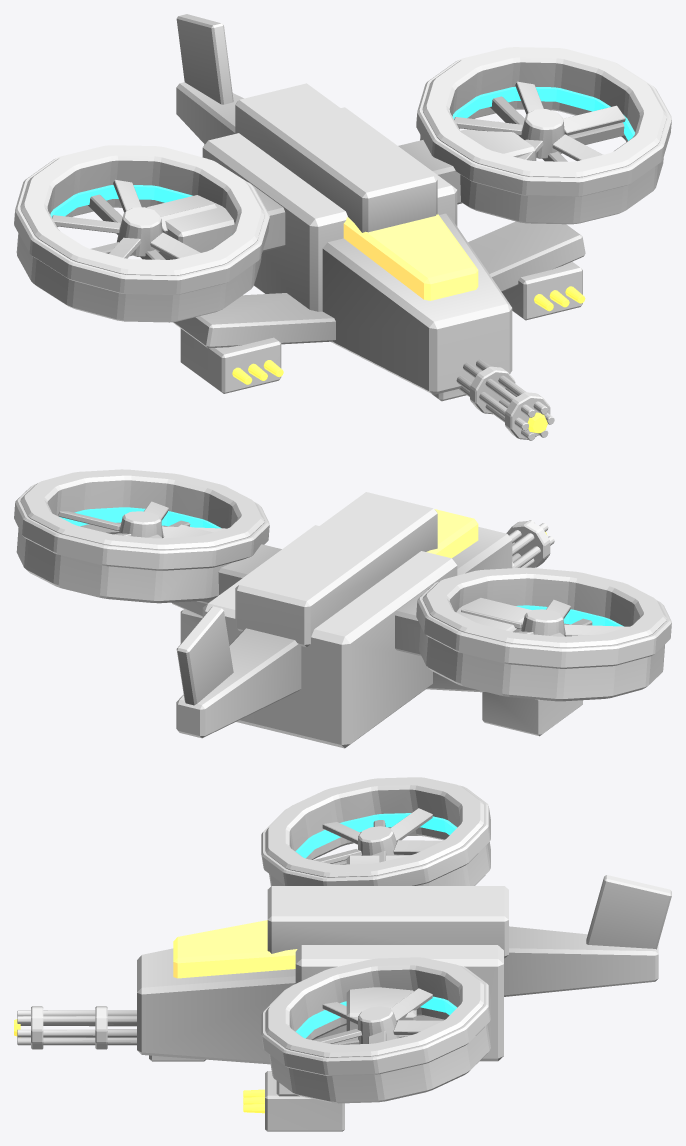
File: e1_gyro_rotor.glb
The picture shows the model from 3 angles, top to bottom: view 1: azimuth 30°, elevation 25°; view 2: azimuth 150°, elevation 25°; view 3: azimuth 270°, elevation 25°; orthographic projection. The views are drawn at different scales.
Visible parts, largest first — view 1: Fan_L_Shroud, Fan_R_Shroud, HullFront, HullSpine, HullCore, Cockpit, StubWing_L, Fan_L_TrimRim, Fan_R_TrimRim, StubWing_R, RotorArm_L, TailVFin (+16 smaller); view 2: Fan_L_Shroud, HullCore, Fan_R_Shroud, HullSpine, TailBoom, Fan_L_TrimRim, Fan_R_TrimRim, TailVFin, MissileRack_L, RotorArm_L, HullFront, Cockpit (+10 smaller); view 3: Fan_R_Shroud, HullSpine, Fan_L_Shroud, HullFront, TailBoom, HullCore, Cockpit, Fan_R_TrimRim, TailVFin, Fan_L_TrimRim, MissileRack_R, Fan_L_InnerGlow (+13 smaller).
Part boxes in pixels (x1,y1,x2,y2): Fan_L_Shroud: (16, 145, 264, 322); Fan_R_Shroud: (420, 47, 666, 224); HullFront: (322, 213, 512, 394); HullSpine: (235, 83, 437, 232); HullCore: (202, 107, 457, 311); Cockpit: (343, 214, 478, 300); StubWing_L: (173, 293, 335, 348); Fan_L_TrimRim: (14, 145, 269, 294); Fan_R_TrimRim: (416, 47, 671, 196); StubWing_R: (468, 221, 585, 291); RotorArm_L: (146, 182, 285, 259); TailVFin: (176, 14, 233, 104); Fan_L_Shroud: (419, 567, 666, 701); HullCore: (202, 525, 457, 748); Fan_R_Shroud: (16, 469, 264, 603); HullSpine: (235, 492, 437, 647); TailBoom: (176, 628, 301, 738); Fan_L_TrimRim: (416, 582, 671, 668); Fan_R_TrimRim: (14, 483, 269, 570); TailVFin: (176, 606, 233, 705); MissileRack_L: (482, 692, 582, 736); RotorArm_L: (395, 585, 531, 656); HullFront: (452, 527, 512, 575); Cockpit: (426, 509, 478, 558); Fan_R_Shroud: (265, 957, 490, 1103); HullSpine: (267, 886, 508, 958); Fan_L_Shroud: (265, 777, 490, 885); HullFront: (137, 948, 295, 1064); TailBoom: (504, 926, 658, 996); HullCore: (295, 945, 503, 1061); Cockpit: (173, 920, 297, 978); Fan_R_TrimRim: (261, 965, 490, 1075); TailVFin: (586, 875, 671, 949); Fan_L_TrimRim: (261, 785, 490, 885); MissileRack_R: (265, 1071, 344, 1131); Fan_L_InnerGlow: (295, 813, 457, 858).
Size of the model in its own units: 2.7 by 0.7897 by 2.69.
